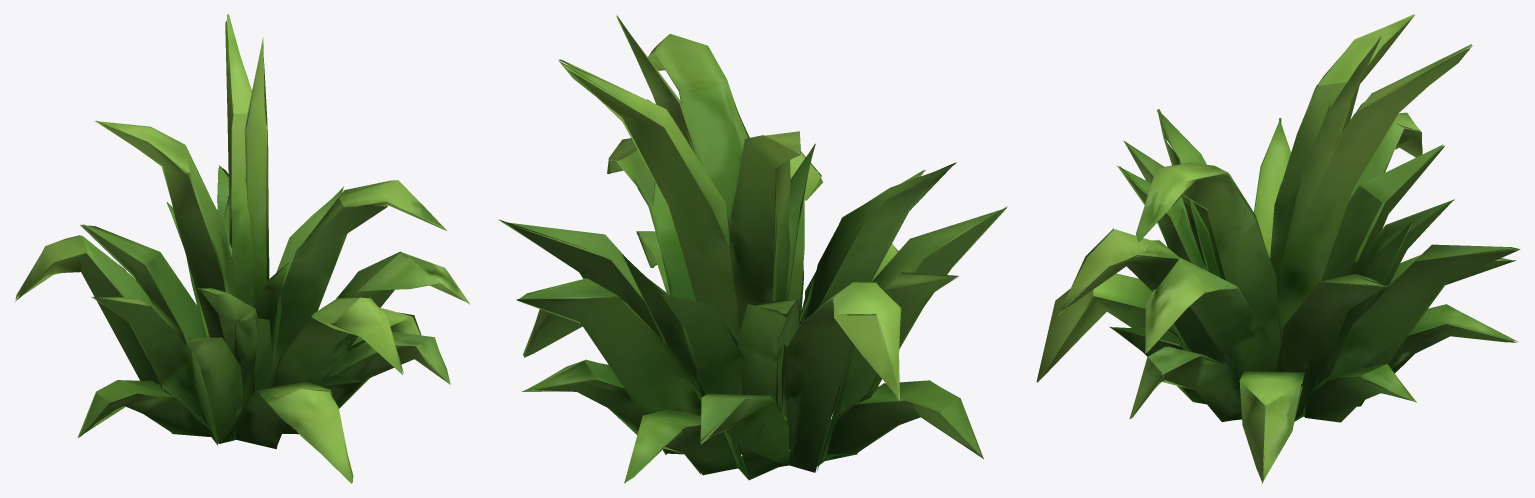
File: grass_gen_f.glb
3 renders of one model, left to right at view 1: azimuth 30°, elevation 25°; view 2: azimuth 150°, elevation 25°; view 3: azimuth 270°, elevation 25°, orthographic. The views are drawn at different scales.
Visible parts, largest first — view 1: grass_gen.005; view 2: grass_gen.005; view 3: grass_gen.005.
Boxes of the visible parts, bbox=[...] form: grass_gen.005: bbox=[14, 14, 469, 483]; grass_gen.005: bbox=[498, 15, 1007, 483]; grass_gen.005: bbox=[1036, 14, 1520, 483].
Bounding box in the file's own units: 1.67 × 1.52 × 1.7.
1 material, 1 textured.
